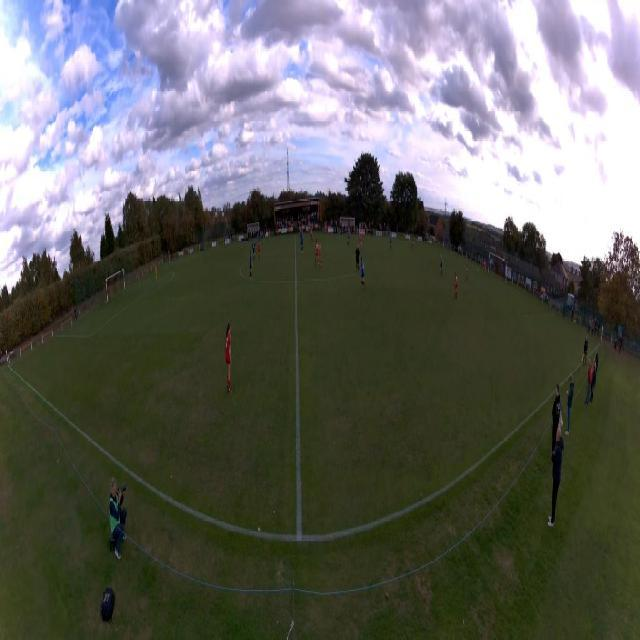ball: (477, 268, 478, 272)
player: (225, 323, 233, 394), (360, 257, 366, 291), (355, 244, 360, 273), (249, 251, 253, 280), (315, 238, 319, 266), (454, 272, 458, 299), (252, 240, 257, 261), (318, 240, 322, 266), (300, 231, 304, 252), (258, 239, 262, 260), (359, 229, 363, 249), (300, 225, 304, 242), (483, 261, 487, 277), (465, 259, 468, 280), (440, 254, 443, 275), (347, 227, 350, 246), (310, 227, 313, 244), (411, 235, 414, 251), (389, 237, 392, 251), (324, 223, 327, 237), (155, 264, 157, 283), (258, 232, 260, 243)
